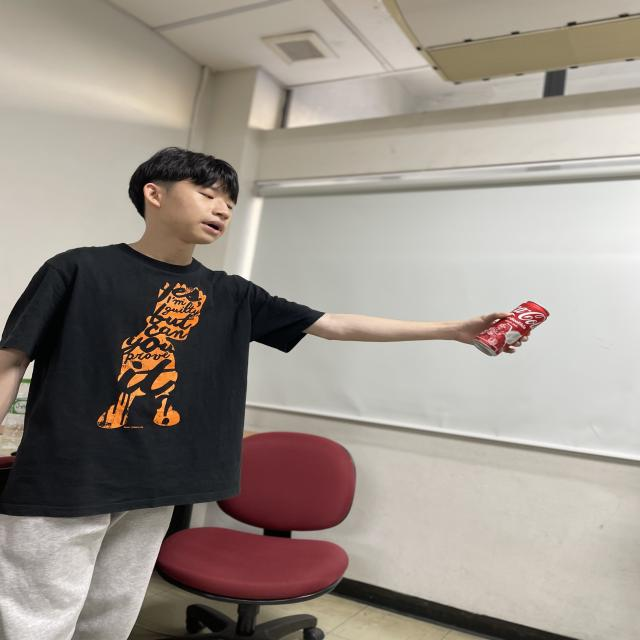can: (471, 300, 550, 358)
